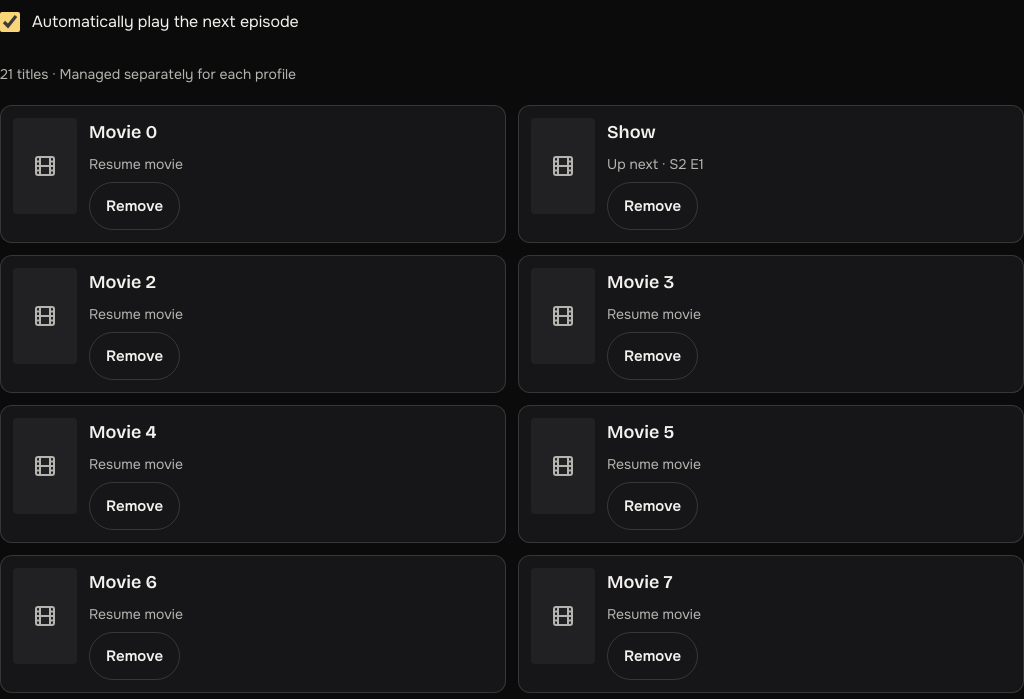
ViewingQueue › auto-loads titles and removes/restores a series in place without deleting progress
Check: the text "Up next · S2 E1" is shown, box top-left (607, 155), bottom-right (704, 173)
Click the button "Remove" below "Up next · S2 E1".
click(653, 206)  # box top-left (607, 182), bottom-right (698, 230)
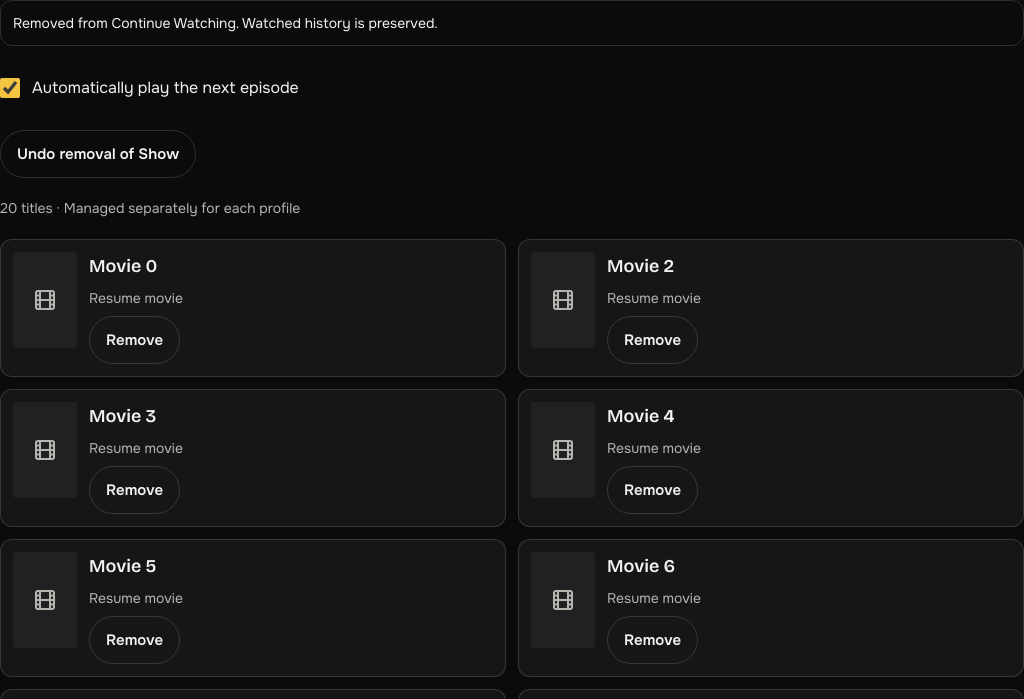
Click the button "Undo removal of Show".
click(98, 154)  # box top-left (0, 130), bottom-right (196, 178)
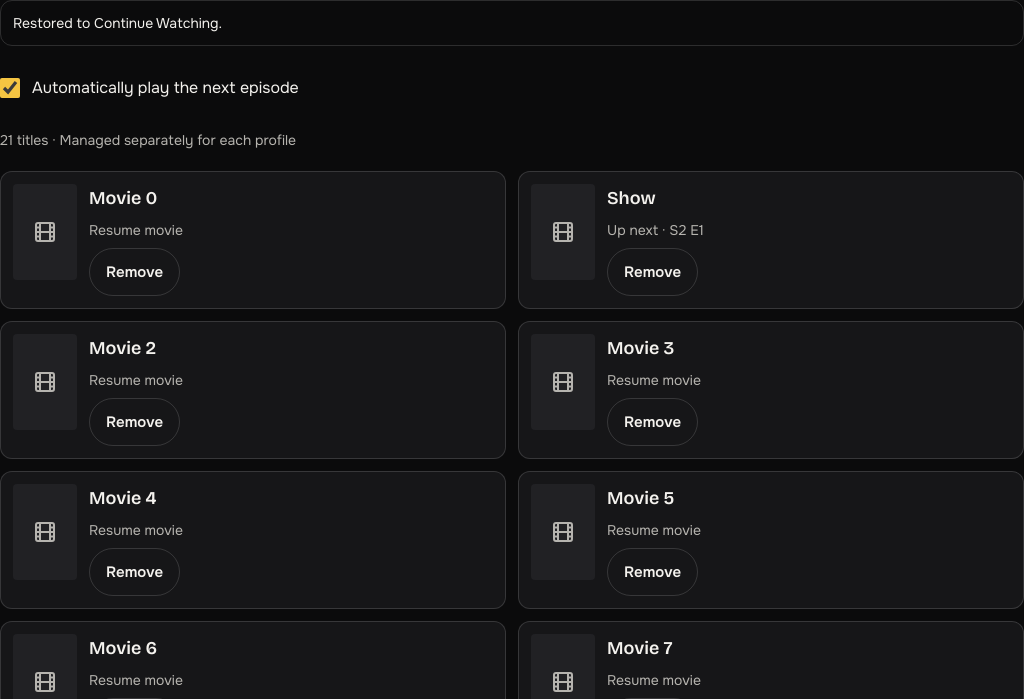
Check: the heading "Show" is shown, box top-left (607, 187), bottom-right (656, 209)
Check: the button "Undo removal of Show" is gone
Check: the text "21 titles · Managed separately for each profile" is shown, box top-left (0, 131), bottom-right (296, 149)
